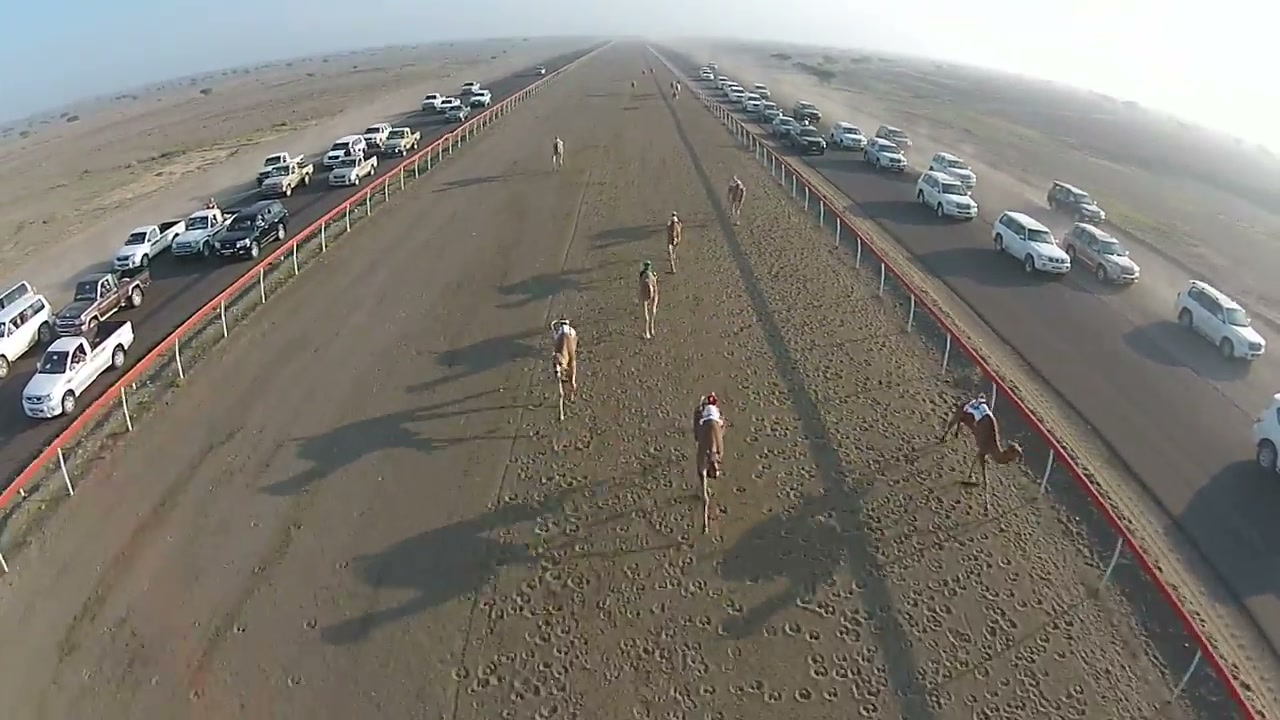animal_foot_print: (726, 193, 1102, 718), (649, 426, 862, 713), (451, 438, 640, 719)
